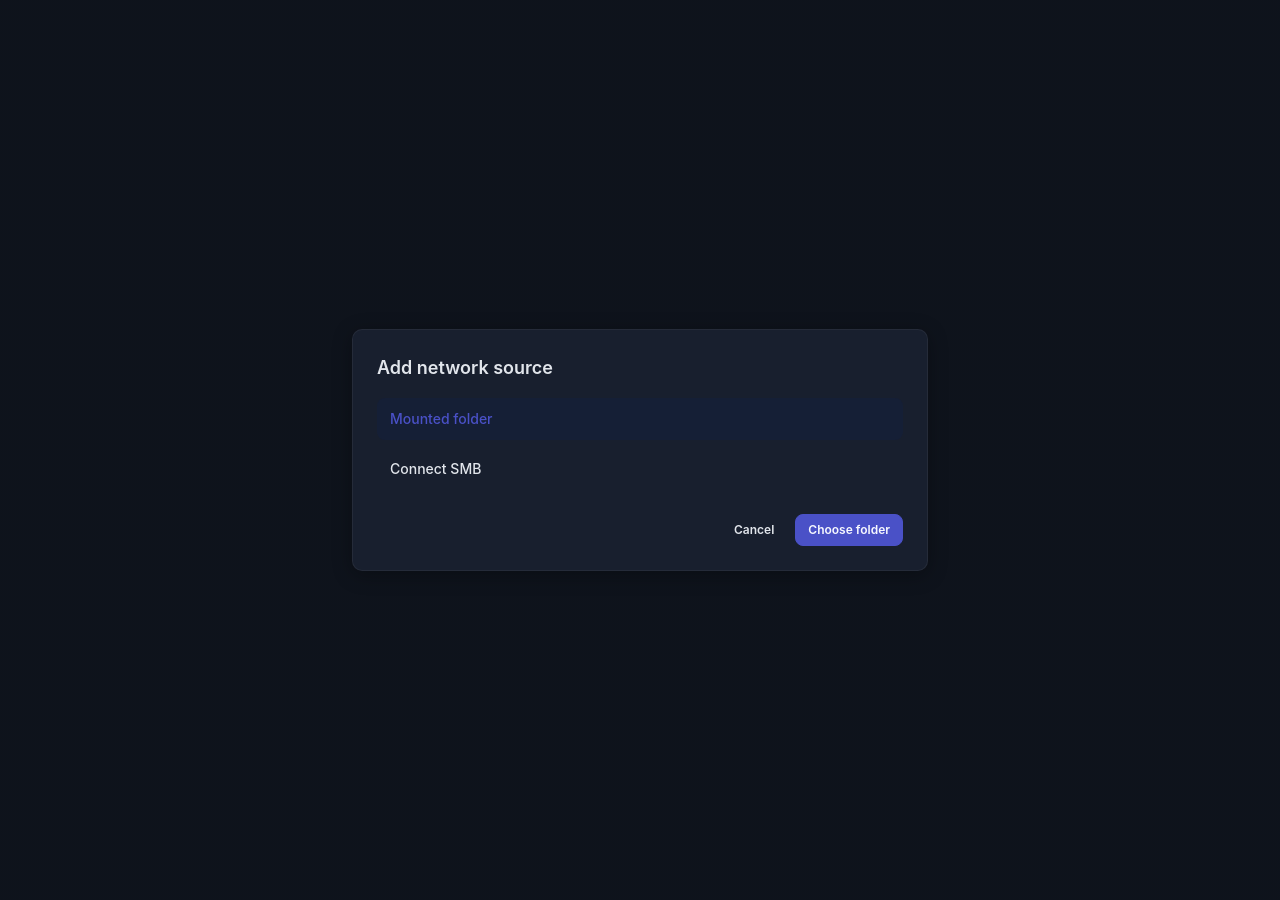
Scenario: SmbConnectDialog › shows error when no shares are returned
Click the button "Connect SMB". click: (436, 468)
box: left=377, top=448, right=903, bottom=490
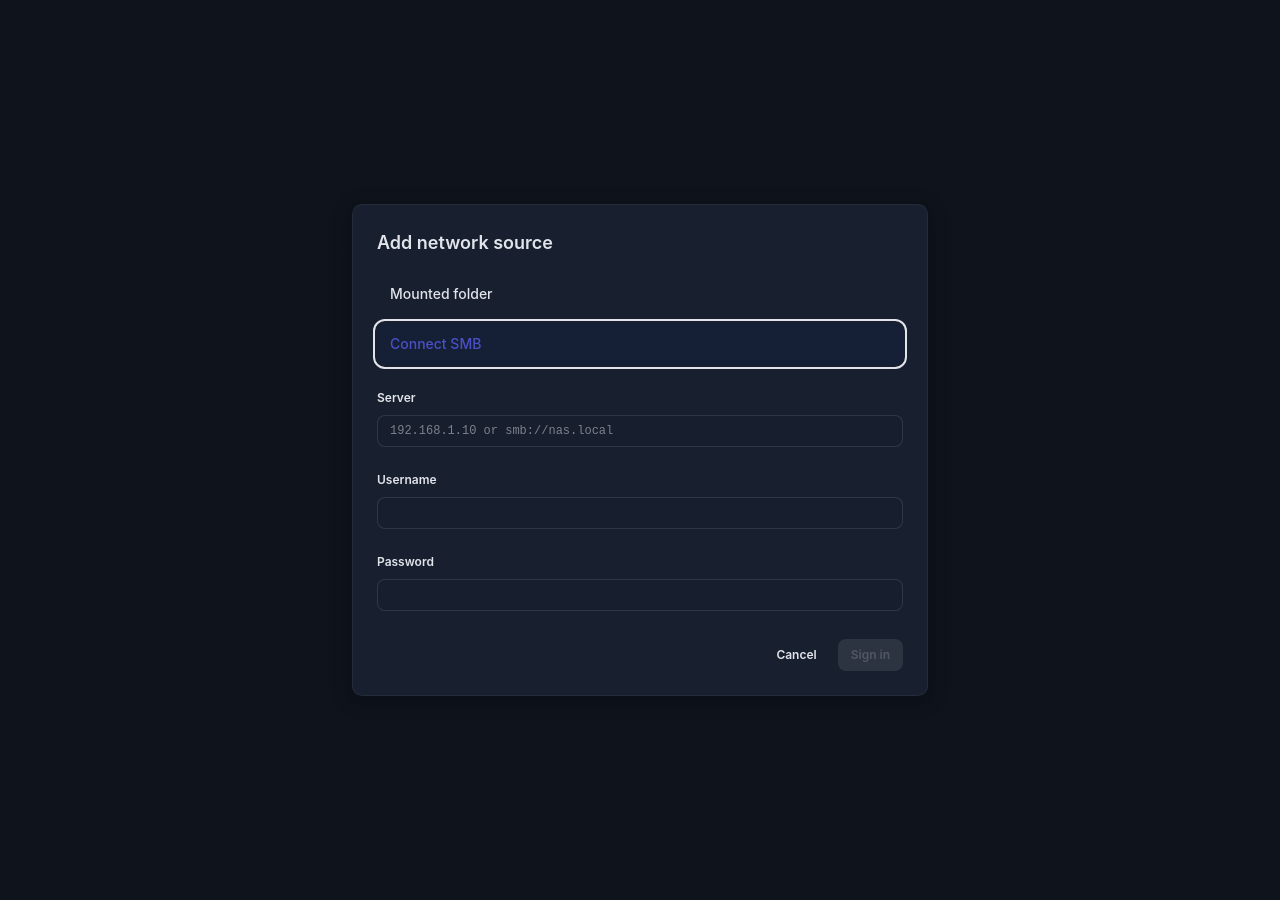
Type "10.0.0.1" into the field with placeholder "192.168.1.10 or smb://nas.local". click: (640, 431)
box: left=377, top=415, right=903, bottom=447
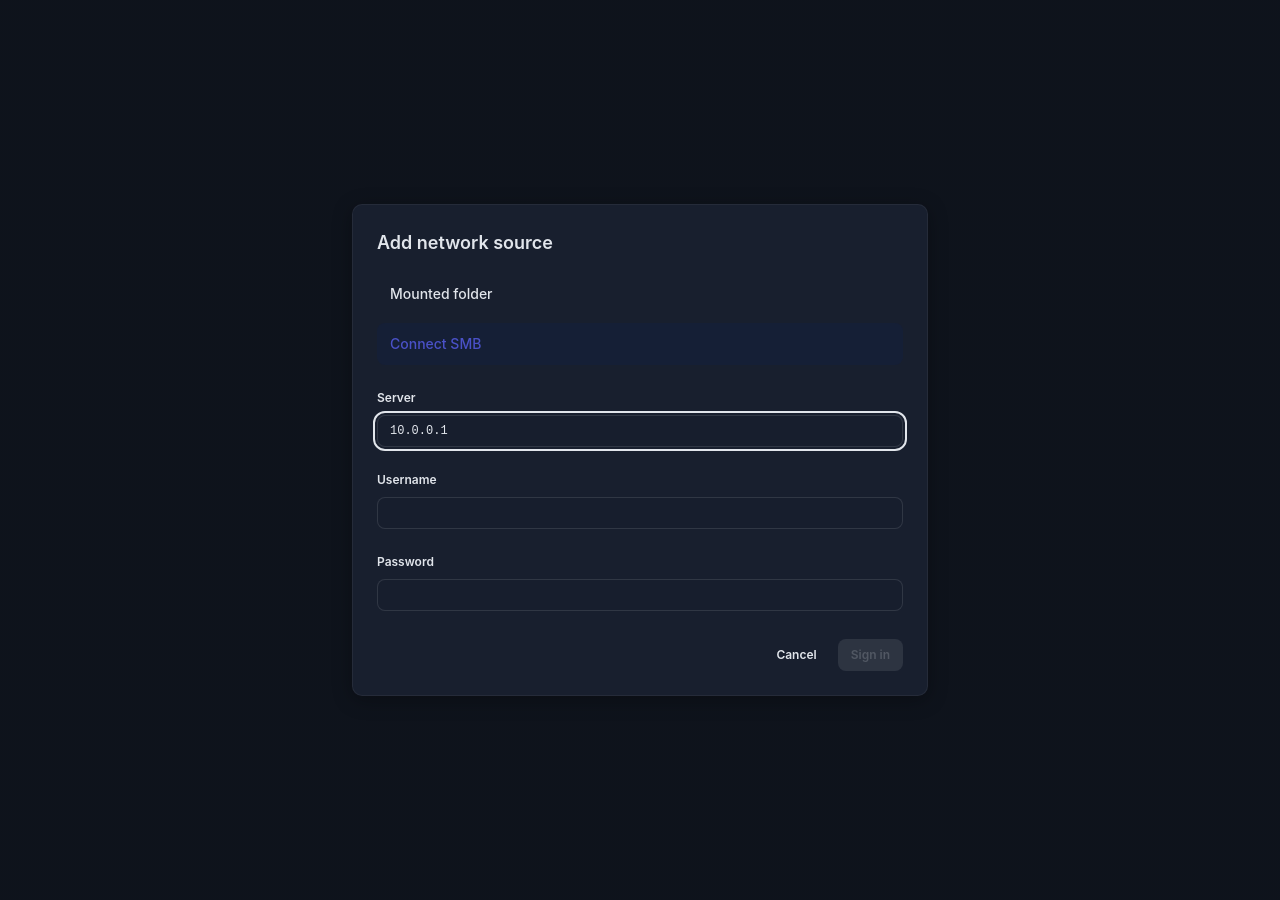
Type "user" into the field named "Username". click: (640, 513)
box: left=377, top=497, right=903, bottom=529
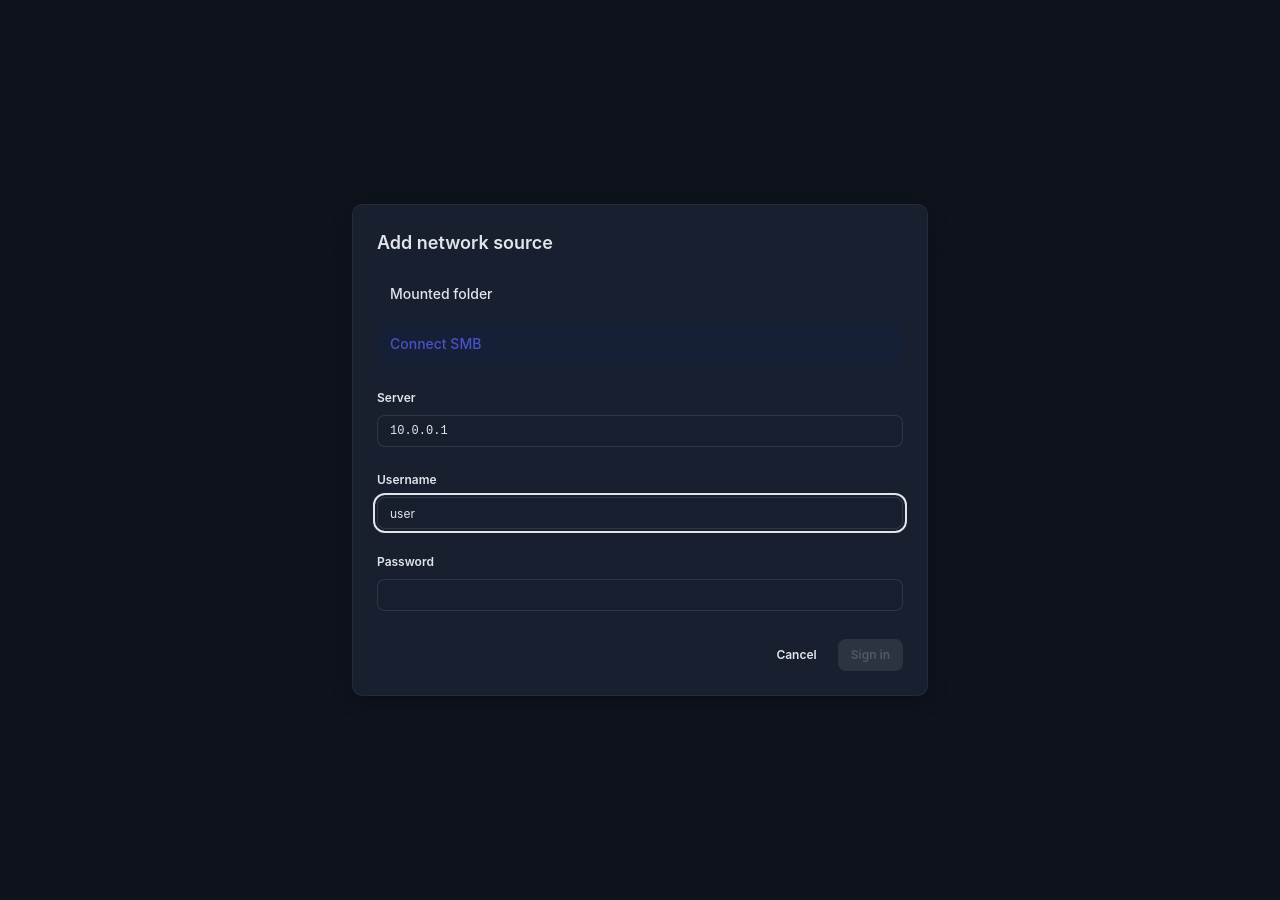
Type "pass" into the password field named "Password". click: (640, 595)
box: left=377, top=579, right=903, bottom=611
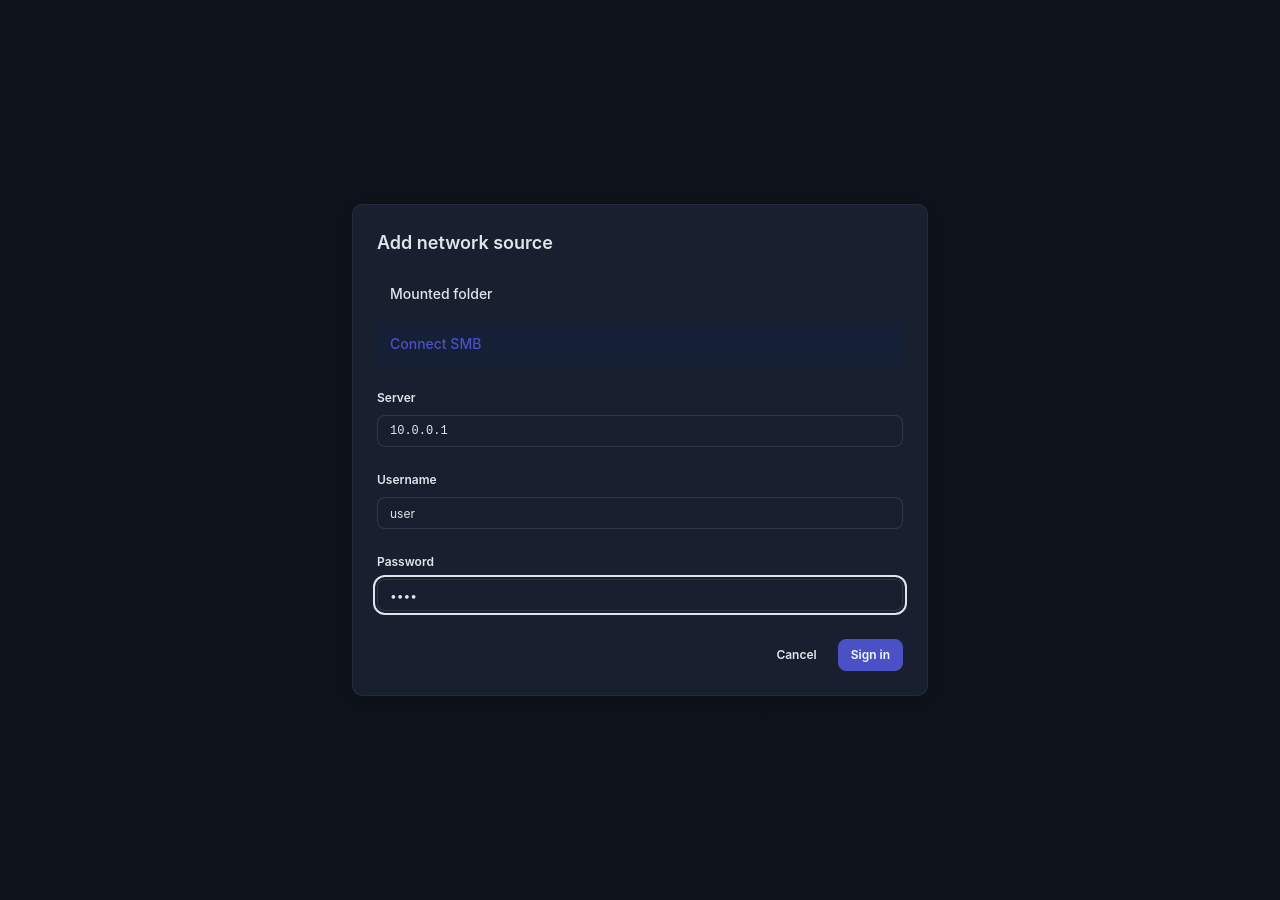
Click the button "Sign in". click: (870, 655)
box: left=838, top=639, right=903, bottom=671
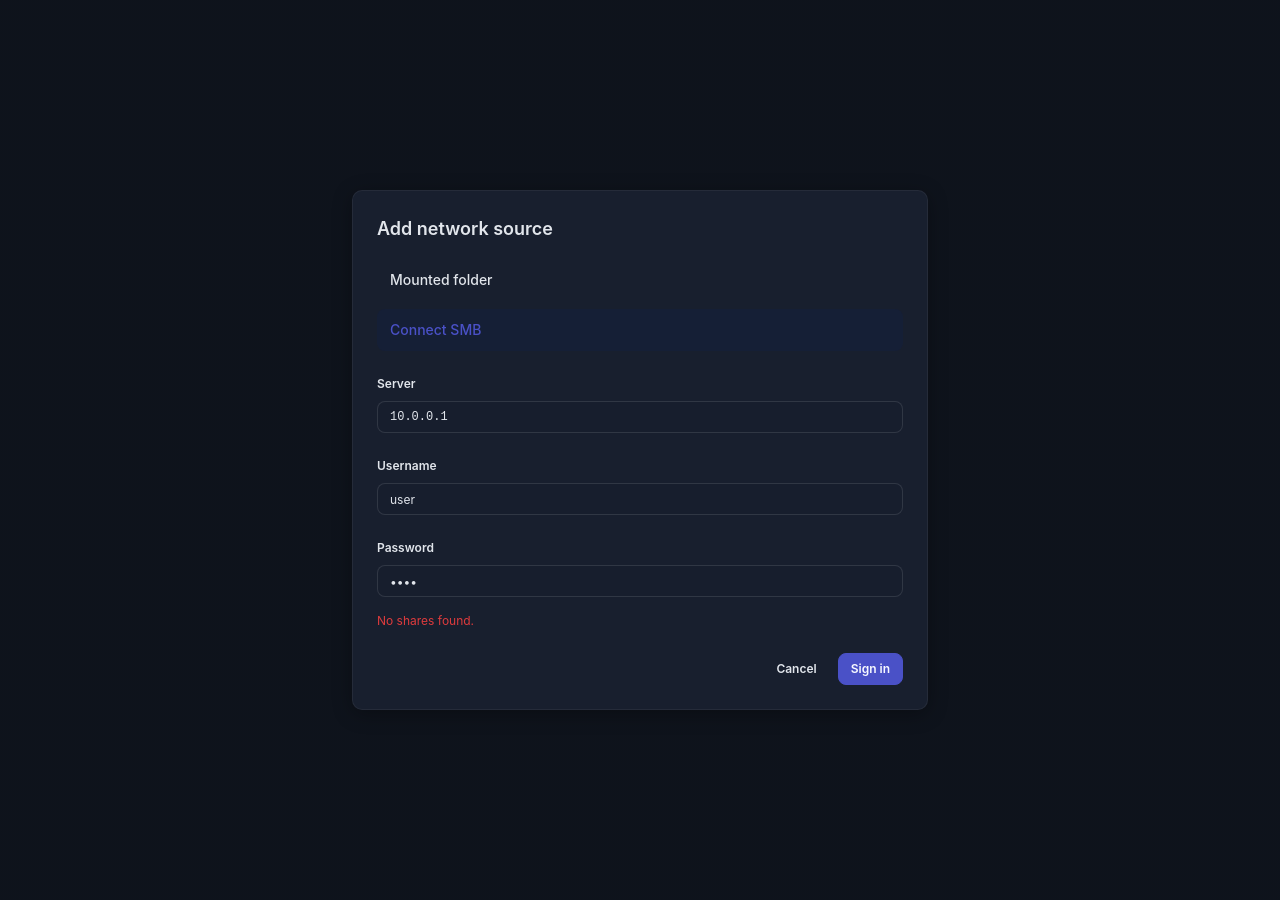
Check: the text "No shares found." is shown, box left=377, top=613, right=474, bottom=628
